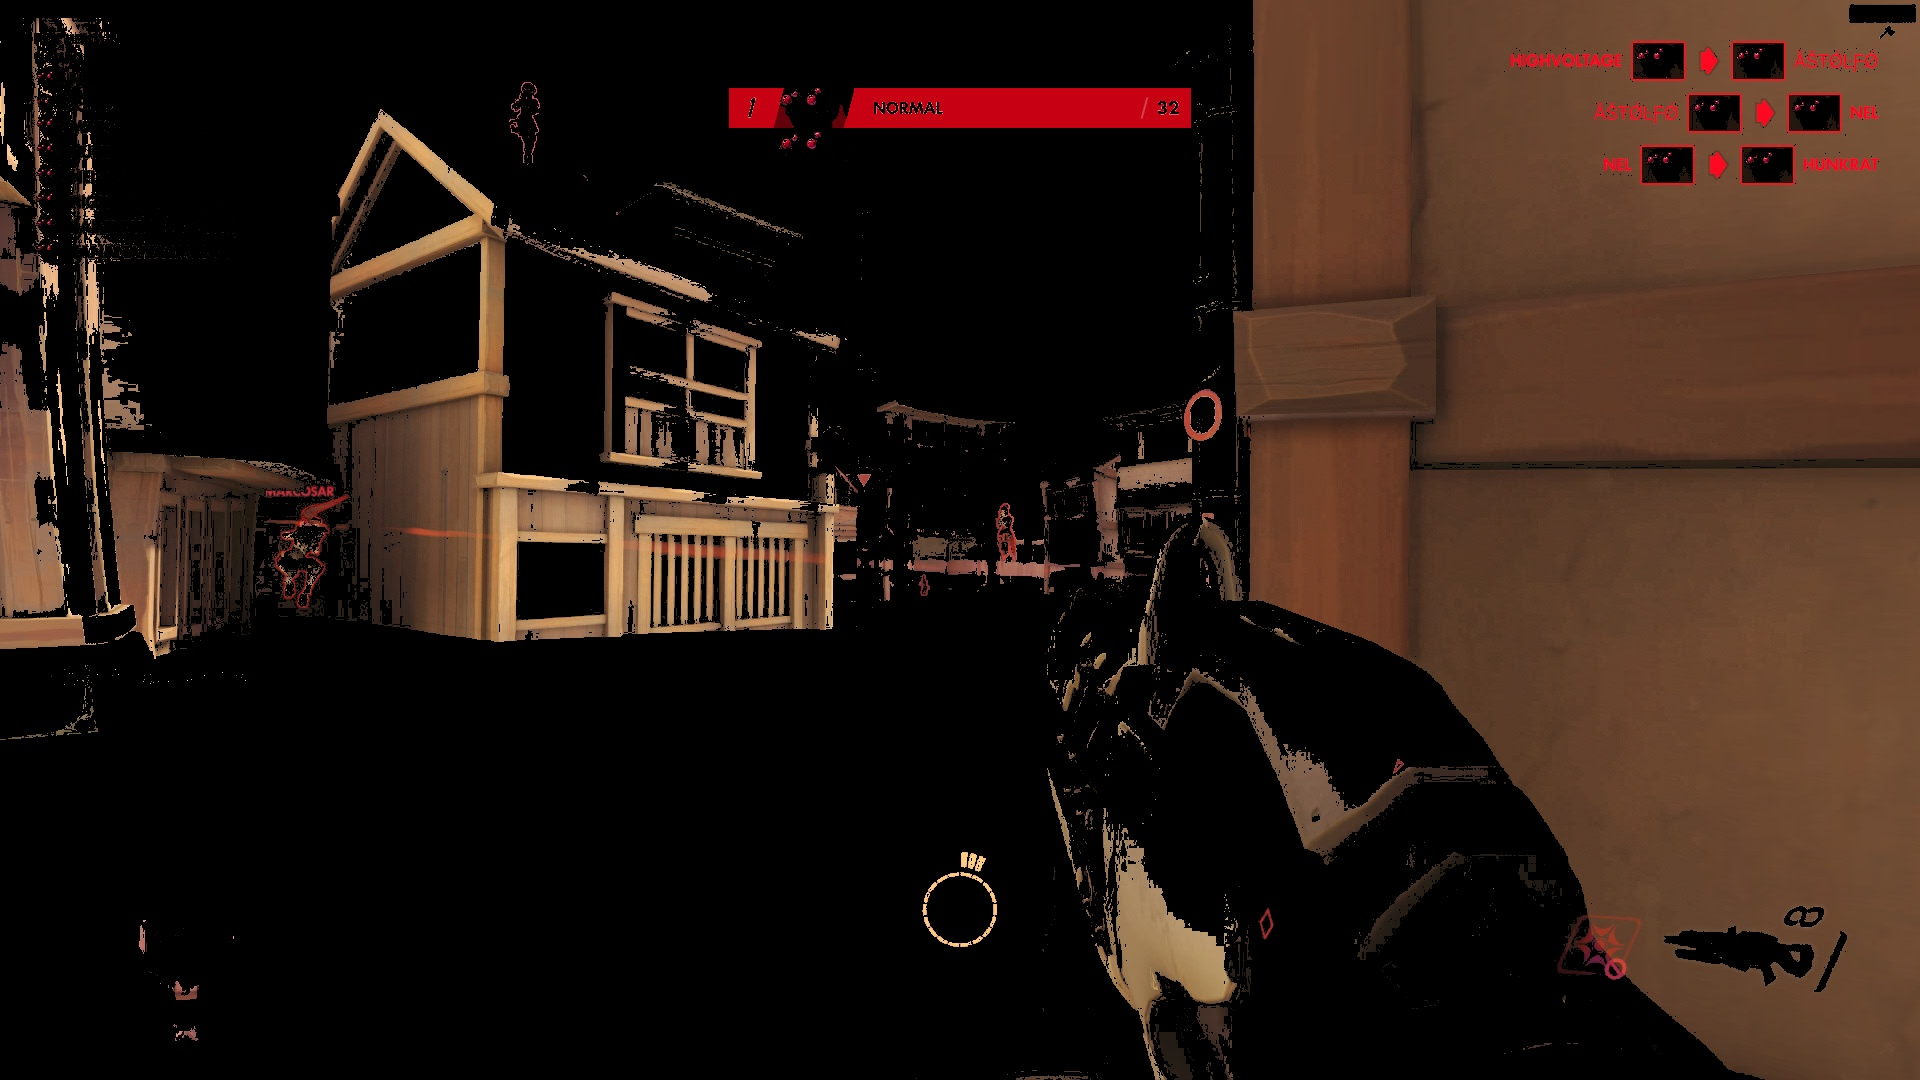widowmaker: (272, 500, 334, 608), (501, 76, 546, 193), (992, 498, 1021, 574), (914, 574, 931, 600)
